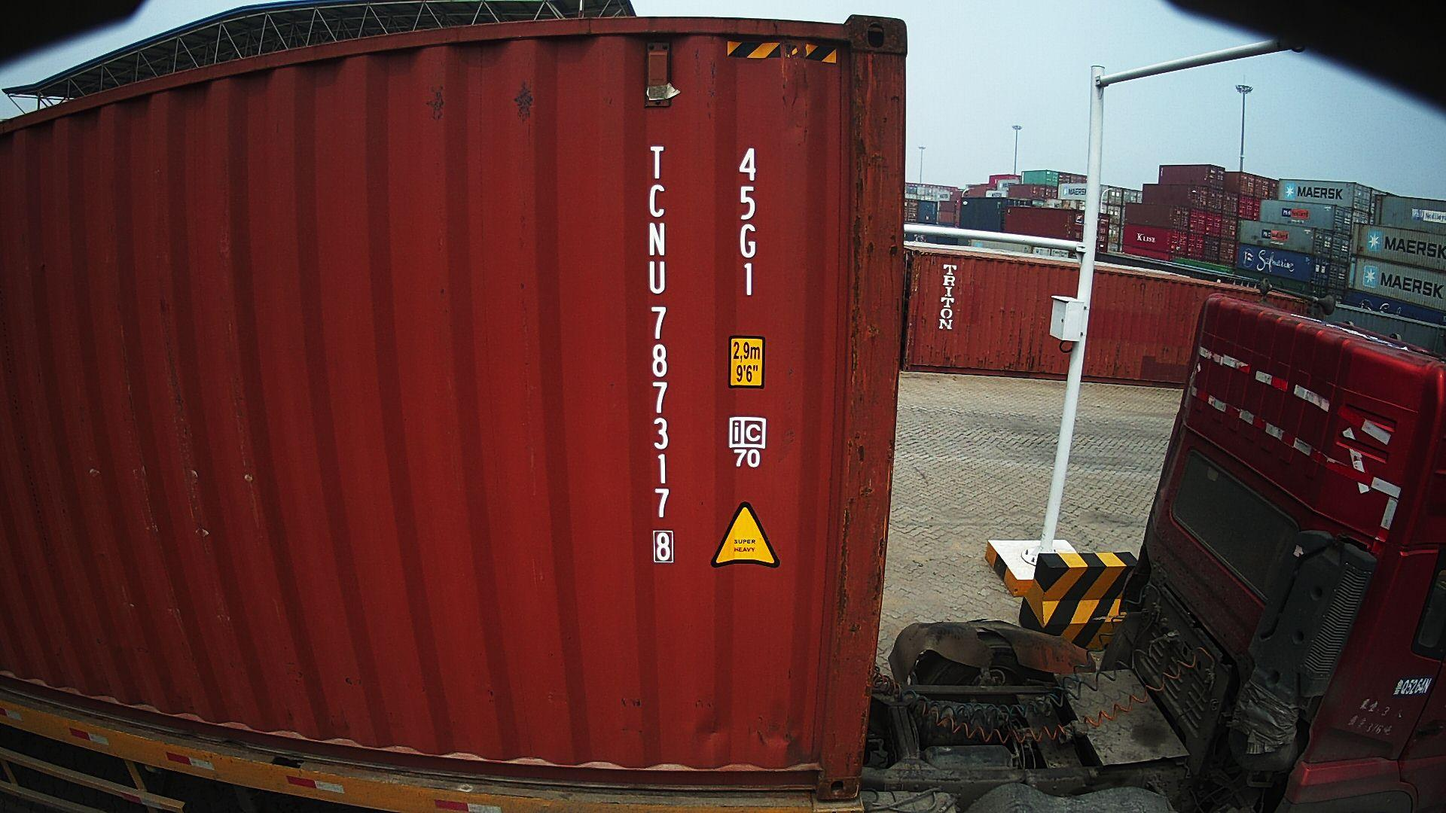container-numbers: (641, 141, 676, 570), (734, 145, 763, 300)
